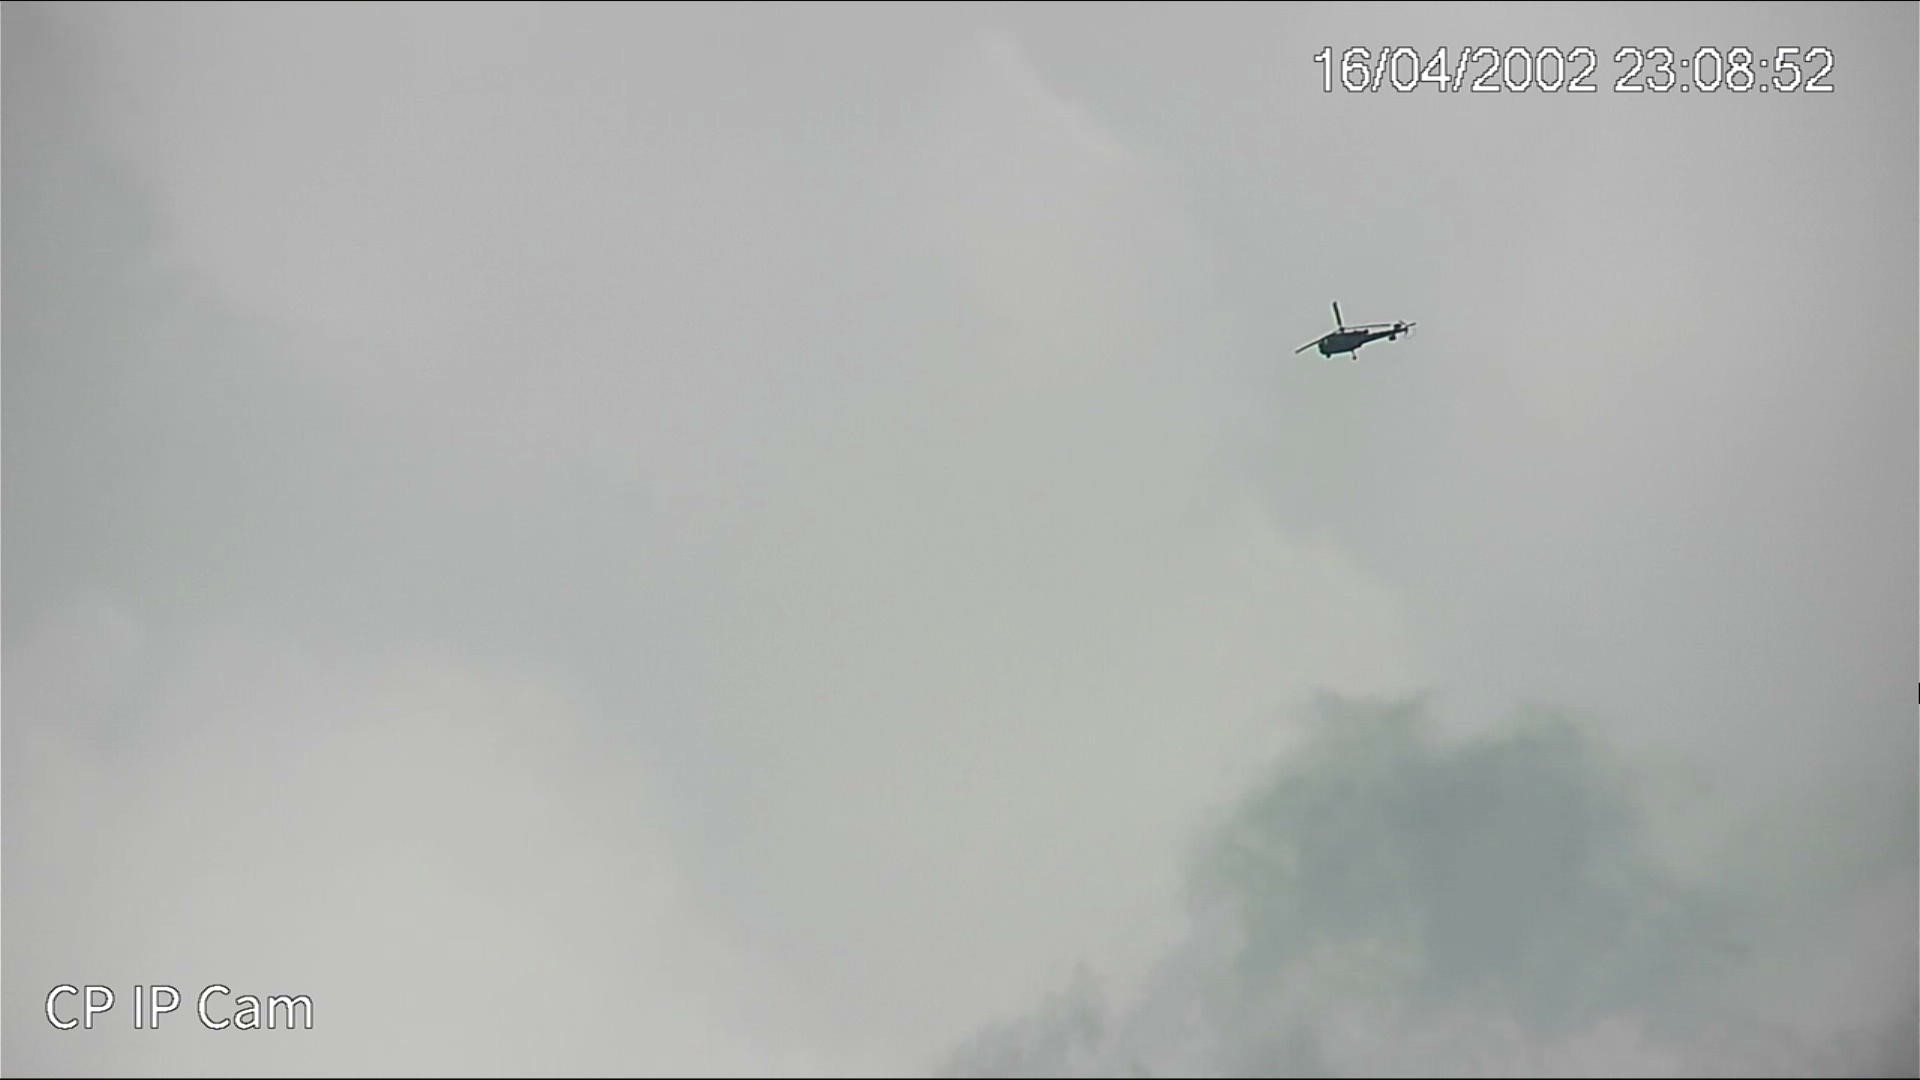SU_30: (1307, 307, 1408, 367)
